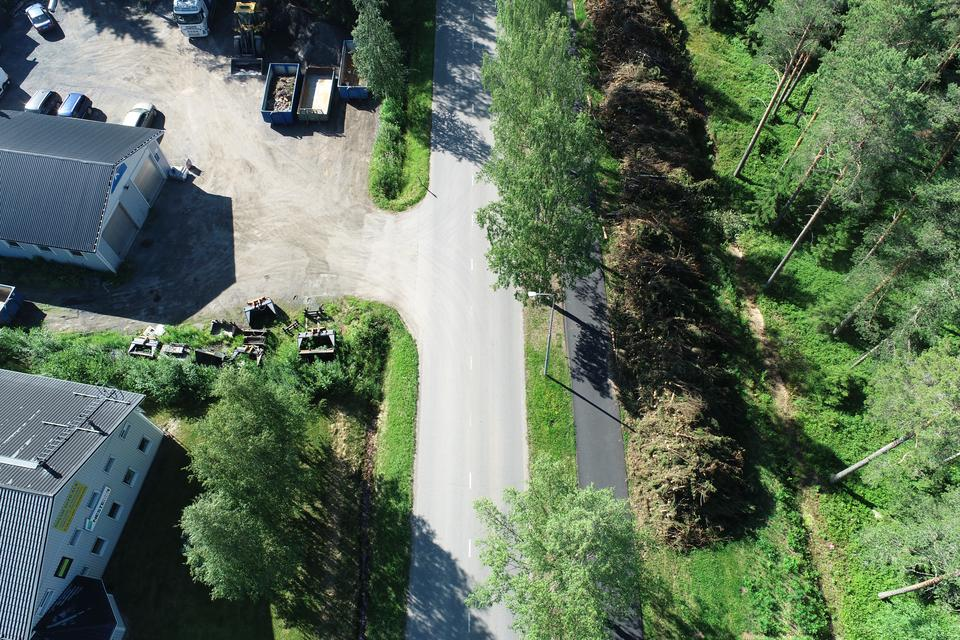intersection: (313, 164, 555, 343)
